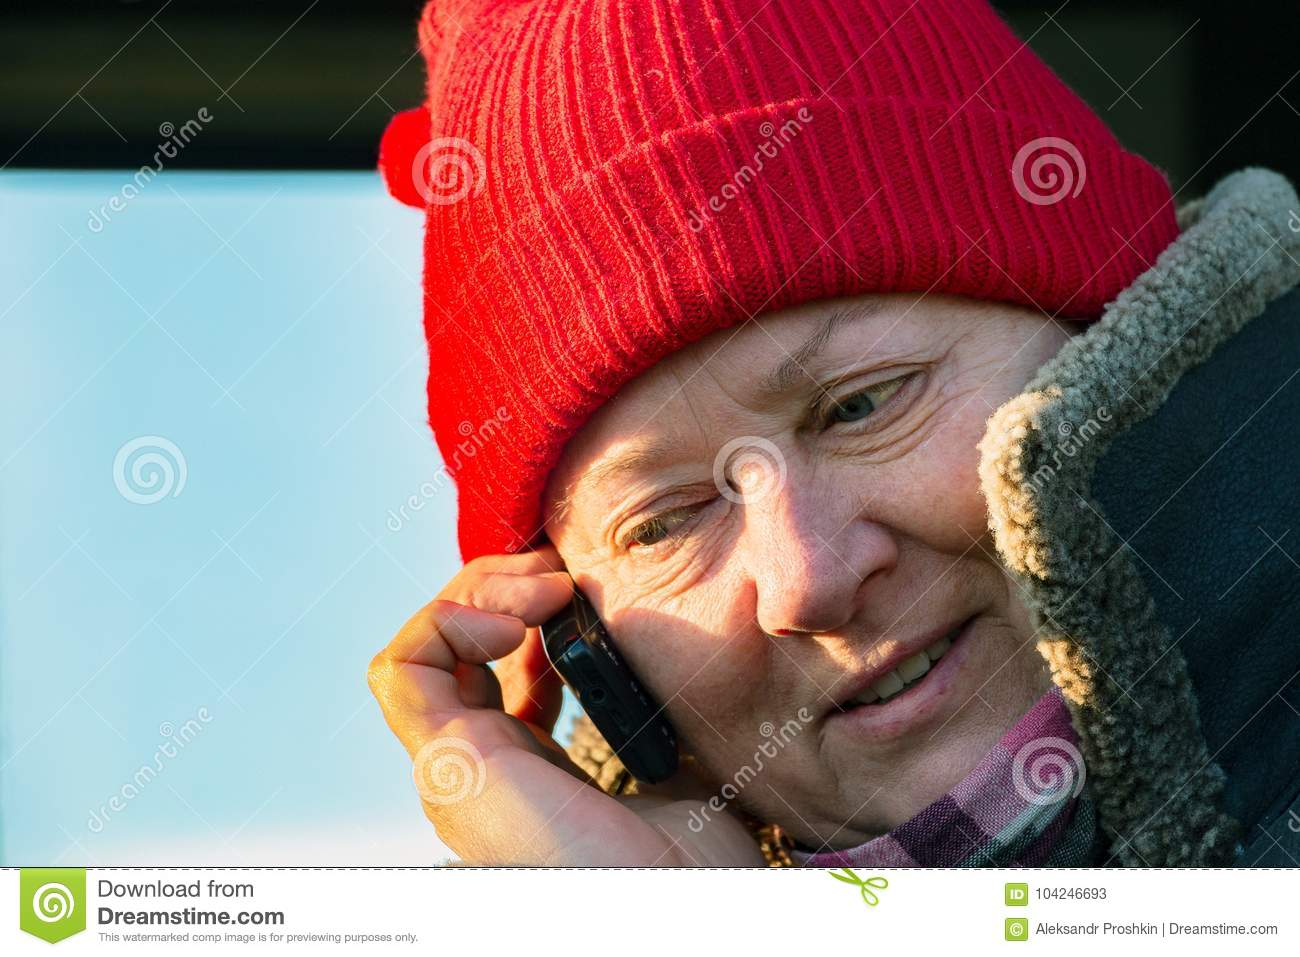phone: (510, 528, 685, 783)
talk: (365, 312, 1036, 866)
